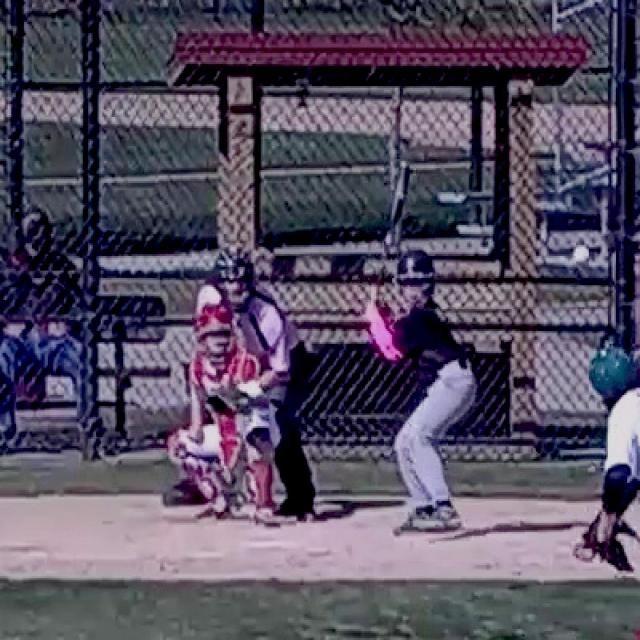baseball: (574, 247, 589, 264)
